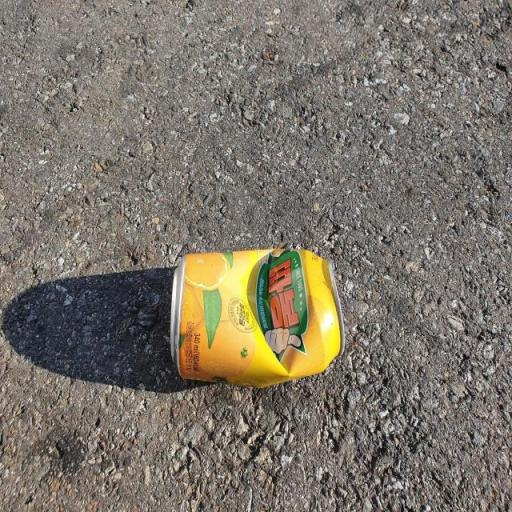metal: (145, 225, 364, 403)
